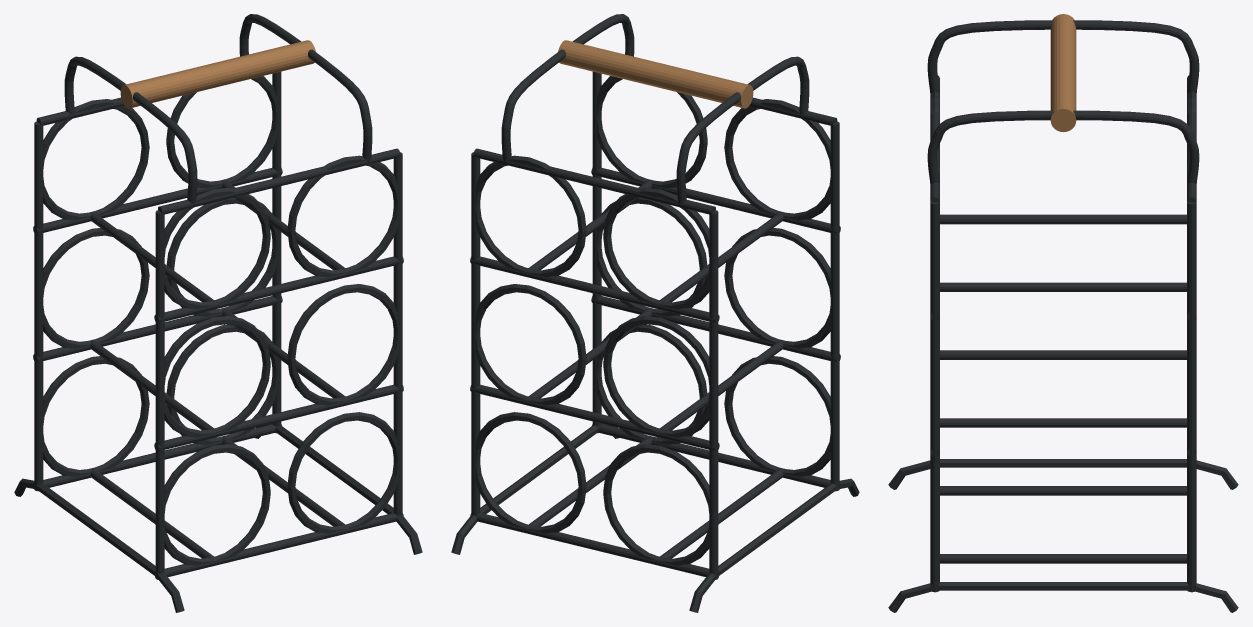
File: full.fbx
3 renders of one model, left to right at view 1: azimuth 30°, elevation 25°; view 2: azimuth 150°, elevation 25°; view 3: azimuth 270°, elevation 25°, orthographic. The views are drawn at different scales.
Visible parts, largest first — view 1: Wooden carry grip, Outer vertical upright -0.136-0.12, Outer vertical upright -0.1360.12, Bottle hoop 0.075-0.120.09, Bottle hoop 0.075-0.120.23, Outer vertical upright 0.136-0.12, Bottle hoop -0.075-0.120.09, Bottle hoop -0.075-0.120.23, Bottle hoop 0.075-0.120.37, Bottle hoop -0.0750.120.37, Bottle hoop -0.075-0.120.37, Outer vertical upright 0.1360.12 (+23 smaller); view 2: Wooden carry grip, Outer vertical upright -0.1360.12, Outer vertical upright -0.136-0.12, Bottle hoop 0.0750.120.09, Bottle hoop 0.0750.120.23, Outer vertical upright 0.1360.12, Bottle hoop -0.0750.120.09, Bottle hoop -0.0750.120.23, Bottle hoop 0.0750.120.37, Bottle hoop -0.075-0.120.37, Bottle hoop -0.0750.120.37, Outer vertical upright 0.136-0.12 (+23 smaller); view 3: Outer vertical upright 0.136-0.12, Outer vertical upright 0.1360.12, Raised handle upright 1, Raised handle upright -1, Bowed foot bar 1, Bowed foot bar -1, Wooden carry grip, Channel connecting rail -0.0750.37, Channel connecting rail -0.0750.09, Channel connecting rail -0.0750.23, Channel connecting rail 0.0750.09, Channel connecting rail 0.0750.23 (+3 smaller).
Part boxes in pixels (<box>): Wooden carry grip: <box>120,40,315,108</box>; Outer vertical upright -0.136-0.12: <box>155,210,164,579</box>; Outer vertical upright -0.1360.12: <box>34,121,43,491</box>; Bottle hoop 0.075-0.120.09: <box>287,412,397,533</box>; Bottle hoop 0.075-0.120.23: <box>287,284,397,405</box>; Outer vertical upright 0.136-0.12: <box>393,152,402,516</box>; Bottle hoop -0.075-0.120.09: <box>164,444,270,565</box>; Bottle hoop -0.075-0.120.23: <box>164,316,270,437</box>; Bottle hoop 0.075-0.120.37: <box>287,155,397,276</box>; Bottle hoop -0.0750.120.37: <box>42,99,149,220</box>; Bottle hoop -0.075-0.120.37: <box>164,187,270,308</box>; Outer vertical upright 0.1360.12: <box>272,71,281,433</box>; Wooden carry grip: <box>558,40,753,108</box>; Outer vertical upright -0.1360.12: <box>709,210,718,579</box>; Outer vertical upright -0.136-0.12: <box>830,121,839,491</box>; Bottle hoop 0.0750.120.09: <box>476,412,586,533</box>; Bottle hoop 0.0750.120.23: <box>476,284,586,405</box>; Outer vertical upright 0.1360.12: <box>471,152,480,516</box>; Bottle hoop -0.0750.120.09: <box>603,444,709,565</box>; Bottle hoop -0.0750.120.23: <box>603,316,709,437</box>; Bottle hoop 0.0750.120.37: <box>476,155,586,276</box>; Bottle hoop -0.075-0.120.37: <box>724,99,831,220</box>; Bottle hoop -0.0750.120.37: <box>603,187,709,308</box>; Outer vertical upright 0.136-0.12: <box>592,71,601,433</box>; Outer vertical upright 0.136-0.12: <box>930,202,939,592</box>; Outer vertical upright 0.1360.12: <box>1187,202,1196,592</box>; Raised handle upright 1: <box>927,110,1199,184</box>; Raised handle upright -1: <box>927,20,1199,94</box>; Bowed foot bar 1: <box>888,582,1238,612</box>; Bowed foot bar -1: <box>888,459,1238,489</box>; Wooden carry grip: <box>1050,14,1076,131</box>; Channel connecting rail -0.0750.37: <box>940,214,1186,224</box>; Channel connecting rail -0.0750.09: <box>940,486,1186,495</box>; Channel connecting rail -0.0750.23: <box>940,350,1186,359</box>; Channel connecting rail 0.0750.09: <box>940,554,1186,563</box>; Channel connecting rail 0.0750.23: <box>940,418,1186,427</box>.
Bounding box in the file's own units: 28.1 × 50.49 × 32.76.
